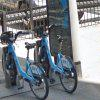Bicycle: (1, 26, 83, 99)
